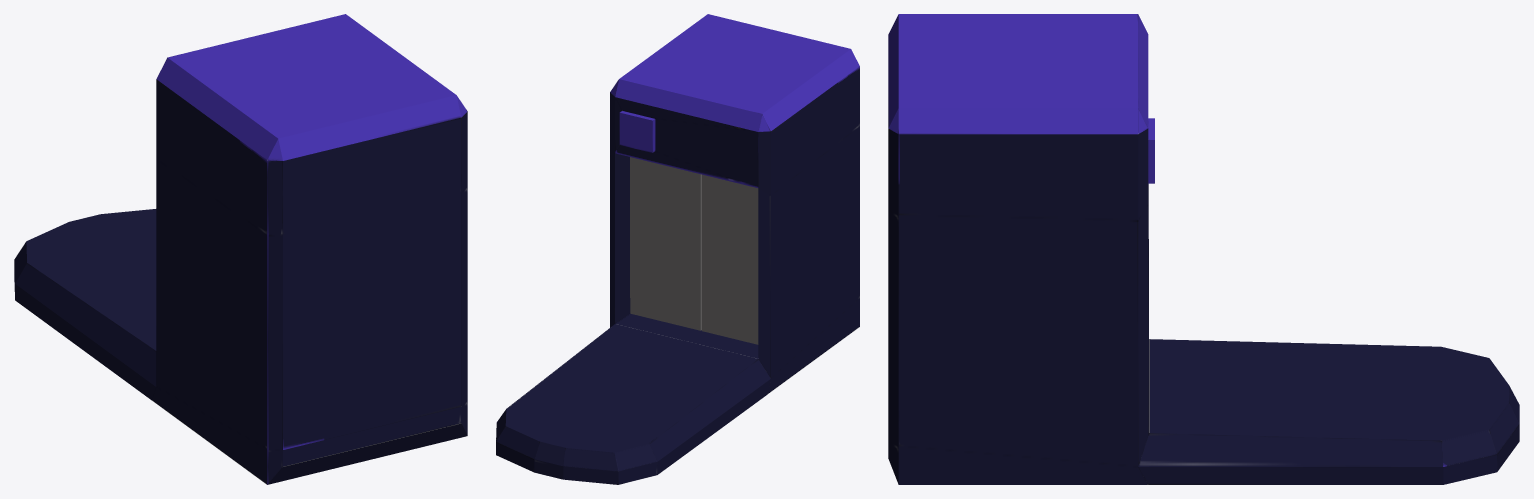
File: AnimationMachine.fbx
3 renders of one model, left to right at view 1: azimuth 30°, elevation 25°; view 2: azimuth 150°, elevation 25°; view 3: azimuth 270°, elevation 25°, orthographic. The views are drawn at different scales.
Parts seen in each view (by area): view 1: MainBody; view 2: MainBody, LeftDoor, RightDoor; view 3: MainBody.
Part boxes in pixels (x1,y1,x2,y2): MainBody: (14,14,467,484); MainBody: (496,14,859,484); LeftDoor: (630,157,701,330); RightDoor: (702,174,758,344); MainBody: (888,14,1519,484).
Size of the model in its own units: 464 by 759 by 1170.
3 materials, 3 textured.
